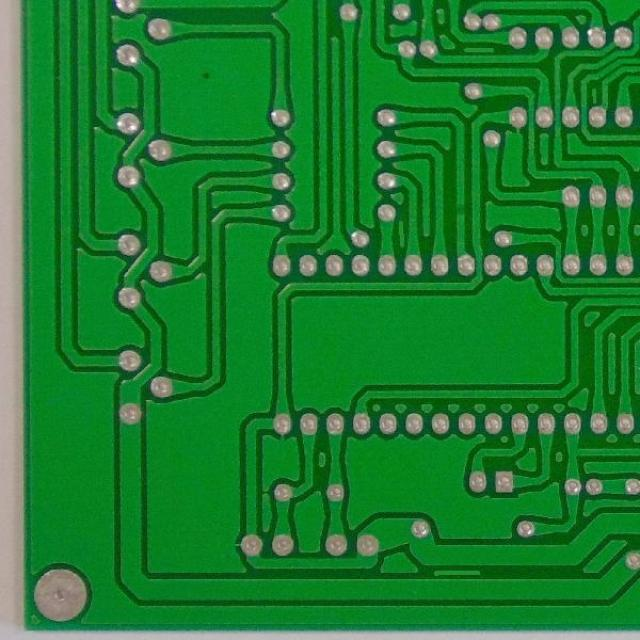spurious_copper: (427, 564, 484, 582), (459, 41, 500, 60), (392, 216, 410, 250), (586, 84, 604, 106)
